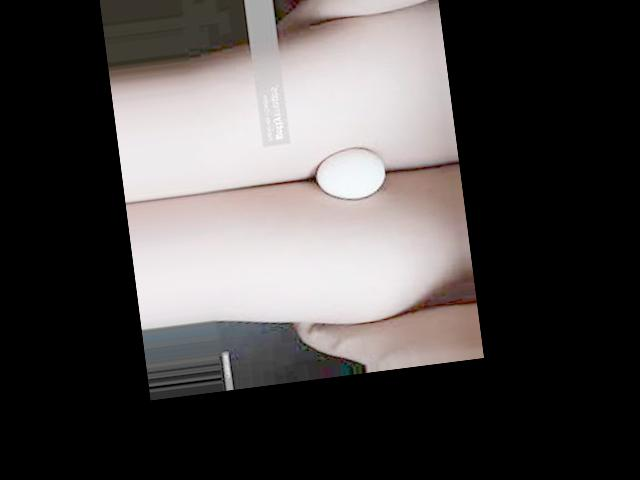egg: (314, 144, 387, 203)
